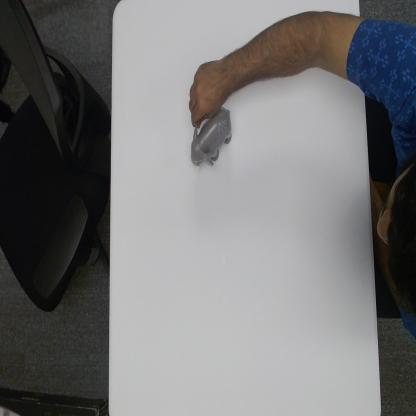Arm: (234, 11, 366, 92)
Elephant: (190, 106, 232, 171)
Hand: (188, 60, 233, 125)
